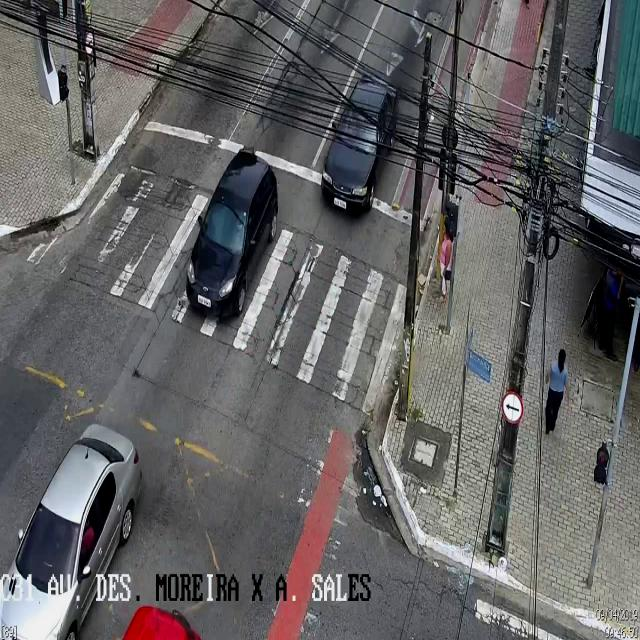Car: (0, 421, 142, 639), (186, 152, 278, 309), (320, 77, 394, 219)
